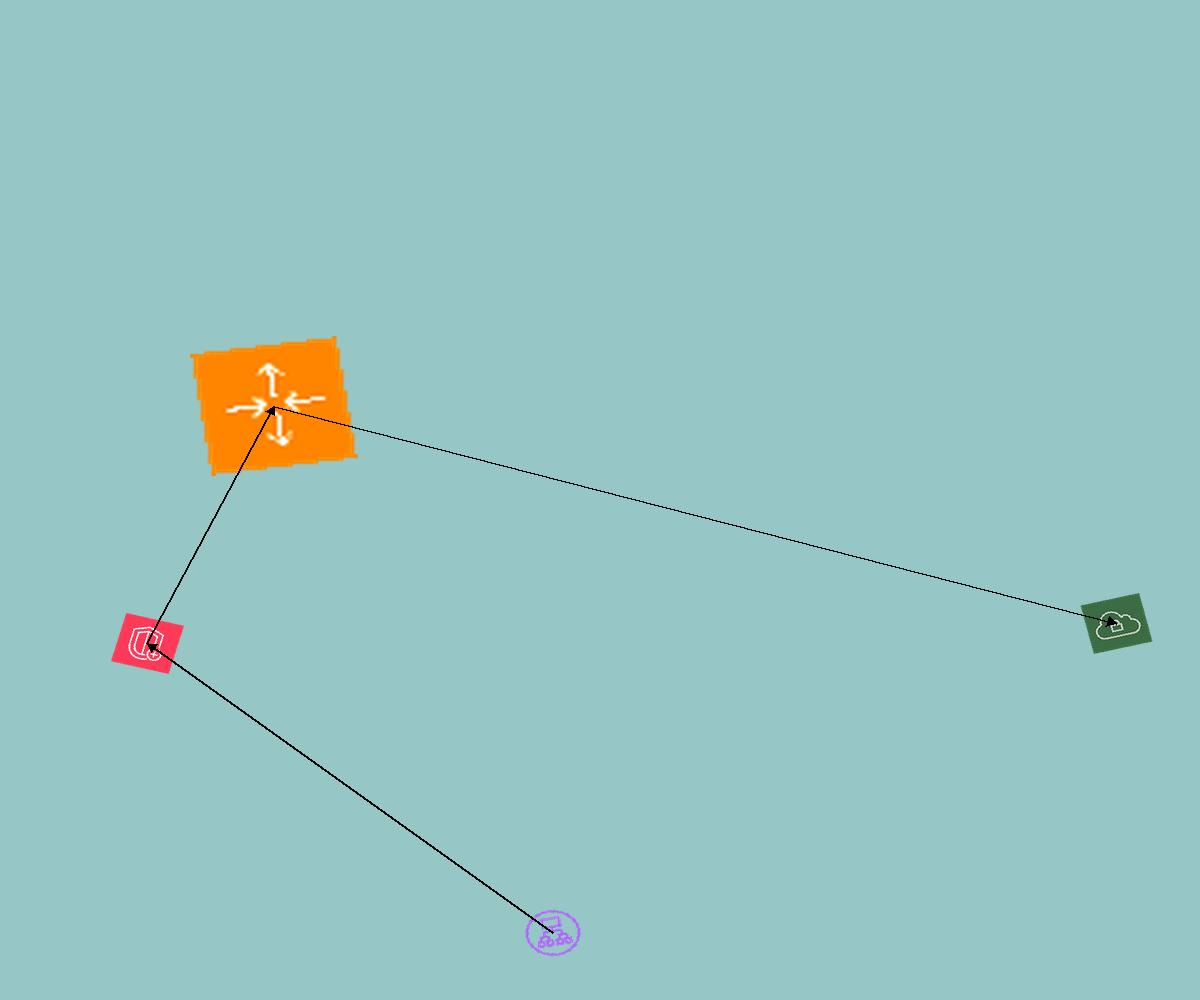AWS-Private_vpc: (1080, 593, 1153, 654)
AWS-Res_Elastic-Load-Balancing_Application-Load-Balancer: (517, 903, 589, 963)
AWS-Scaling-group: (190, 336, 358, 476)
AWS-Shield: (111, 613, 184, 674)
